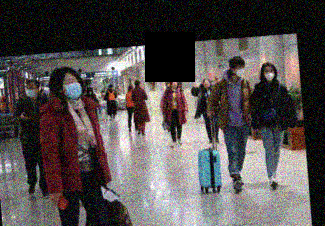with_mask: (62, 75, 82, 100), (23, 83, 37, 97), (262, 66, 275, 81), (235, 64, 245, 77)
without_mask: (201, 79, 210, 88), (170, 80, 178, 87)
